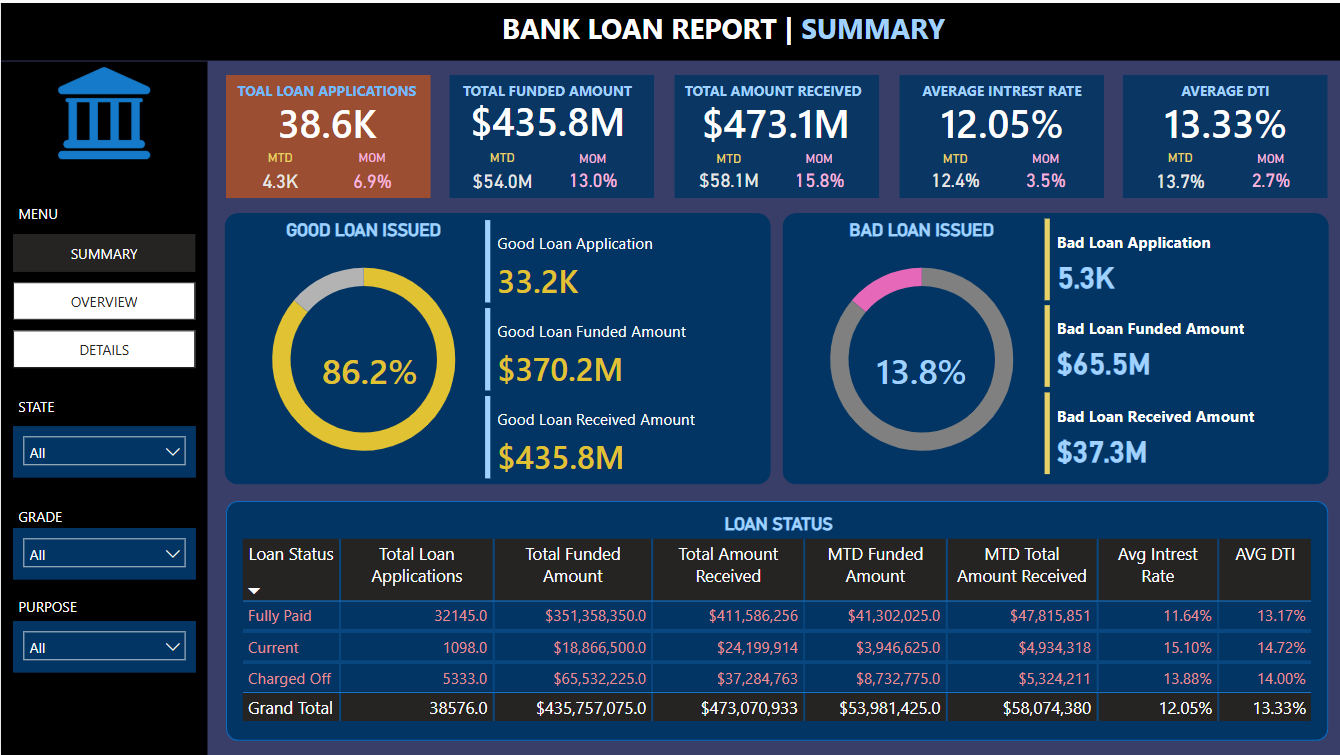

Layout of this report page (visuals, bound fields, positions):
{"tool":"powerbi","page":{"name":"SUMMARY","canvas":[1280,720],"ordinal":0},"visuals":[{"type":"shape","box":[0,0,1280.4,55],"z":0},{"type":"shape","box":[0,55.7,197.2,664.9],"z":1000},{"type":"textbox","box":[456.5,0,466,55.7],"z":2000},{"type":"shape","box":[214.7,68.4,195.6,117.7],"z":3000},{"type":"textbox","box":[213.1,68.4,195.6,30.2],"z":4000},{"type":"card","fields":{"Values":["bank_loan_data.Total Loan Applications"]},"box":[213.1,85.9,195.6,55.7],"z":5000},{"type":"card","title":"MTD","fields":{"Values":["bank_loan_data.MTD Loan Applications"]},"box":[222.7,140,89.1,46.1],"z":6000},{"type":"card","title":"MOM","fields":{"Values":["bank_loan_data.MOM Loan Applications"]},"box":[311.8,140,84.3,46.1],"z":7000},{"type":"shape","title":"LOAN STATUS","box":[214.7,475.6,1053,229],"z":8000},{"type":"shape","box":[427.9,68.4,195.6,117.7],"z":9000},{"type":"shape","box":[642.6,68.4,195.6,117.7],"z":10000},{"type":"shape","box":[857.3,68.4,195.6,117.7],"z":11000},{"type":"shape","box":[1072.1,68.4,195.6,117.7],"z":12000},{"type":"textbox","box":[424.7,68.4,195.6,30.2],"z":13000},{"type":"card","fields":{"Values":["bank_loan_data.Total Funded Amount"]},"box":[424.7,84.3,195.6,55.7],"z":14000},{"type":"card","title":"MTD","fields":{"Values":["bank_loan_data.MTD Funded Amount"]},"box":[434.2,140,89.1,46.1],"z":15000},{"type":"card","title":"MTD","fields":{"Values":["bank_loan_data.MTD Total Amount Received"]},"box":[650.6,141.6,89.1,41.4],"z":16000},{"type":"card","title":"MTD","fields":{"Values":["bank_loan_data.MTD Avg Intrest Rate"]},"box":[866.9,141.6,89.1,41.4],"z":17000},{"type":"card","title":"MTD","fields":{"Values":["bank_loan_data.MTD Avg DTI"]},"box":[1081.6,140,89.1,46.1],"z":18000},{"type":"card","title":"MOM","fields":{"Values":["bank_loan_data.MOM Funded Amount"]},"box":[523.3,141.6,84.3,41.4],"z":19000},{"type":"card","title":"MOM","fields":{"Values":["bank_loan_data.MOM Total Amount Received"]},"box":[739.6,141.6,84.3,41.4],"z":20000},{"type":"card","title":"MOM","fields":{"Values":["bank_loan_data.MOM Avg Interest Rate"]},"box":[956,141.6,84.3,41.4],"z":21000},{"type":"card","title":"MOM","fields":{"Values":["bank_loan_data.MOM AVG DTI"]},"box":[1170.7,141.6,84.3,41.4],"z":22000},{"type":"card","fields":{"Values":["bank_loan_data.Total Amount Received"]},"box":[641,85.9,195.6,55.7],"z":23000},{"type":"card","fields":{"Values":["bank_loan_data.Avg Intrest Rate"]},"box":[857.3,85.9,195.6,55.7],"z":24000},{"type":"card","fields":{"Values":["bank_loan_data.AVG DTI"]},"box":[1072.1,85.9,195.6,55.7],"z":25000},{"type":"textbox","box":[639.4,68.4,197.2,30.2],"z":26000},{"type":"textbox","box":[857.3,68.4,195.6,30.2],"z":27000},{"type":"textbox","box":[1072.1,68.4,195.6,30.2],"z":28000},{"type":"shape","box":[213.1,200.4,521.7,259.3],"z":29000},{"type":"shape","box":[746,200.4,521.7,259.3],"z":30000},{"type":"donutChart","title":"GOOD LOAN ISSUED","fields":{"Category":["bank_loan_data.Good Vs Bad Loan"],"Y":["bank_loan_data.Total Loan Applications"]},"box":[213.1,206.8,265.6,248.1],"z":31000},{"type":"cardVisual","fields":{"Data":["bank_loan_data.Good Loan Application","bank_loan_data.Good Loan Foundation Amount","bank_loan_data.Good Loan Received Amount"]},"box":[456.5,202,267.2,259.3],"z":32000},{"type":"card","fields":{"Values":["bank_loan_data.Good Loan %Age"]},"box":[279.9,330.8,144.7,39.8],"z":33000},{"type":"donutChart","title":"BAD LOAN ISSUED","fields":{"Category":["bank_loan_data.Good Vs Bad Loan"],"Y":["bank_loan_data.Total Loan Applications"]},"box":[746,206.8,265.6,248.1],"z":34000},{"type":"card","fields":{"Values":["bank_loan_data.Bad Loan %Age"]},"box":[806.4,330.8,144.7,39.8],"z":35000},{"type":"cardVisual","fields":{"Data":["bank_loan_data.Bad Loan Application","bank_loan_data.Bad Loan Funded Amount","bank_loan_data.Bad Loan Received Amount"]},"box":[991,200.4,268.8,254.5],"z":36000},{"type":"tableEx","title":"LOAN STATUS","fields":{"Values":["bank_loan_data.loan_status","bank_loan_data.Total Loan Applications","bank_loan_data.Total Funded Amount","bank_loan_data.Total Amount Received","bank_loan_data.MTD Funded Amount","bank_loan_data.MTD Total Amount Received","bank_loan_data.Avg Intrest Rate","bank_loan_data.AVG DTI"]},"box":[224.3,486.7,1035.5,217.9],"z":37000},{"type":"image","box":[27,55.7,143.2,98.6],"z":38000},{"type":"slicer","fields":{"Values":["bank_loan_data.address_state"]},"box":[11.1,404,175,49.3],"z":39000},{"type":"slicer","fields":{"Values":["bank_loan_data.grade"]},"box":[11.1,501,175,49.3],"z":40000},{"type":"slicer","fields":{"Values":["bank_loan_data.purpose"]},"box":[11.1,590.1,175,49.3],"z":41000},{"type":"textbox","box":[11.1,370.6,101.8,58.9],"z":42000},{"type":"textbox","box":[11.1,475.6,74.8,39.8],"z":43000},{"type":"textbox","box":[11.1,561.5,87.5,54.1],"z":44000},{"type":"pageNavigator","box":[11.1,221.1,175,130.4],"z":45000},{"type":"textbox","box":[11.1,186.1,175,47.7],"z":46000}]}

Visuals, with their boxes in screenshot pixels (x1, y1, x2, y2), scaled from the page's 1280x720 canvas onto the 1340x755 screenshot:
shape: crop(0, 0, 1339, 58)
shape: crop(0, 58, 206, 754)
textbox: crop(478, 0, 966, 58)
shape: crop(225, 72, 430, 195)
textbox: crop(223, 72, 428, 103)
card - bank_loan_data.Total Loan Applications: crop(223, 90, 428, 148)
"MTD" card: crop(233, 147, 326, 195)
"MOM" card: crop(326, 147, 415, 195)
"LOAN STATUS" shape: crop(225, 499, 1327, 739)
shape: crop(448, 72, 653, 195)
shape: crop(673, 72, 877, 195)
shape: crop(897, 72, 1102, 195)
shape: crop(1122, 72, 1327, 195)
textbox: crop(445, 72, 649, 103)
card - bank_loan_data.Total Funded Amount: crop(445, 88, 649, 147)
"MTD" card: crop(455, 147, 548, 195)
"MTD" card: crop(681, 148, 774, 192)
"MTD" card: crop(908, 148, 1001, 192)
"MTD" card: crop(1132, 147, 1226, 195)
"MOM" card: crop(548, 148, 636, 192)
"MOM" card: crop(774, 148, 863, 192)
"MOM" card: crop(1001, 148, 1089, 192)
"MOM" card: crop(1226, 148, 1314, 192)
card - bank_loan_data.Total Amount Received: crop(671, 90, 876, 148)
card - bank_loan_data.Avg Intrest Rate: crop(897, 90, 1102, 148)
card - bank_loan_data.AVG DTI: crop(1122, 90, 1327, 148)
textbox: crop(669, 72, 876, 103)
textbox: crop(897, 72, 1102, 103)
textbox: crop(1122, 72, 1327, 103)
shape: crop(223, 210, 769, 482)
shape: crop(781, 210, 1327, 482)
"GOOD LOAN ISSUED" donutChart: crop(223, 217, 501, 477)
cardVisual - bank_loan_data.Good Loan Application x bank_loan_data.Good Loan Foundation Amount: crop(478, 212, 758, 484)
card - bank_loan_data.Good Loan %Age: crop(293, 347, 445, 389)
"BAD LOAN ISSUED" donutChart: crop(781, 217, 1059, 477)
card - bank_loan_data.Bad Loan %Age: crop(844, 347, 996, 389)
cardVisual - bank_loan_data.Bad Loan Application x bank_loan_data.Bad Loan Funded Amount: crop(1037, 210, 1319, 477)
"LOAN STATUS" tableEx: crop(235, 510, 1319, 739)
image: crop(28, 58, 178, 162)
slicer - bank_loan_data.address_state: crop(12, 424, 195, 475)
slicer - bank_loan_data.grade: crop(12, 525, 195, 577)
slicer - bank_loan_data.purpose: crop(12, 619, 195, 670)
textbox: crop(12, 389, 118, 450)
textbox: crop(12, 499, 90, 540)
textbox: crop(12, 589, 103, 646)
pageNavigator: crop(12, 232, 195, 369)
textbox: crop(12, 195, 195, 245)
